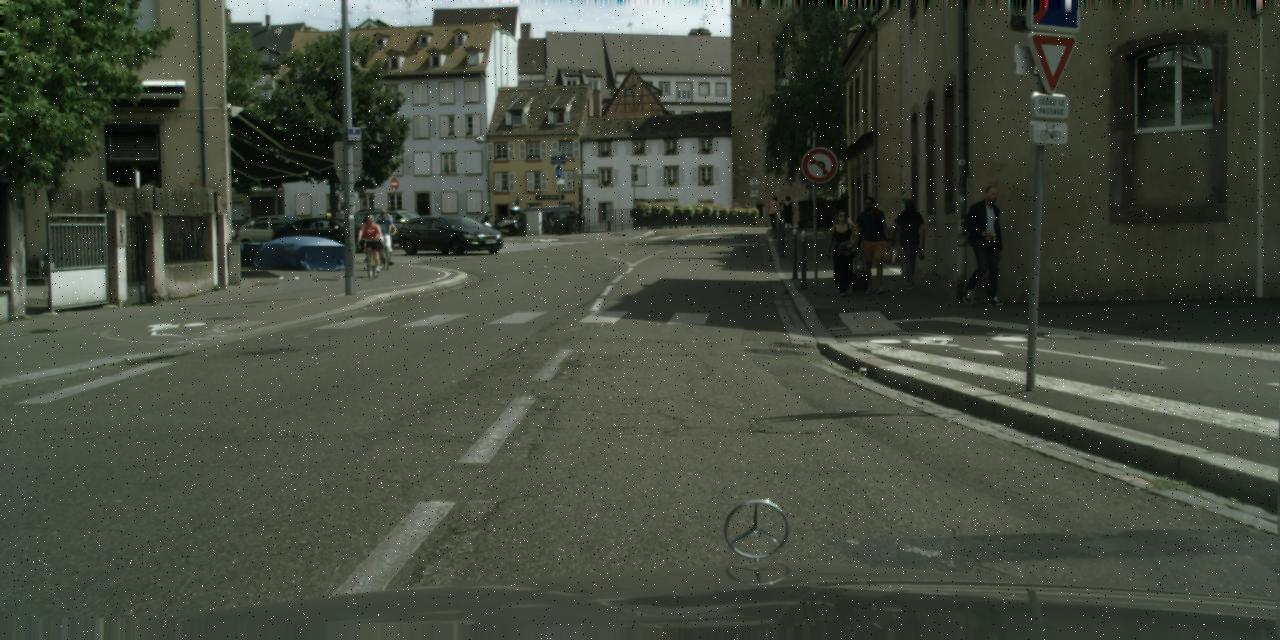ped: (962, 186, 1010, 304), (851, 195, 890, 294), (891, 199, 928, 289), (824, 208, 860, 296), (359, 214, 382, 268), (374, 211, 394, 261), (374, 208, 392, 254), (766, 196, 781, 232), (780, 195, 794, 233), (244, 213, 257, 246), (323, 208, 333, 233)
